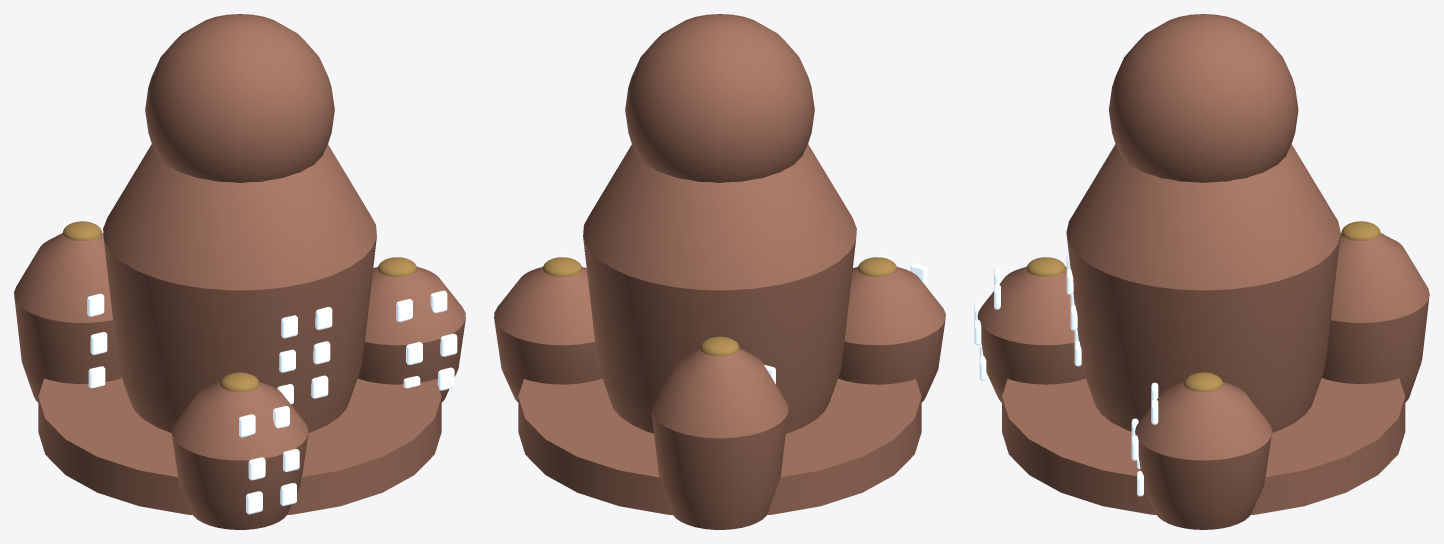
3 renders of one model, left to right at view 1: azimuth 30°, elevation 25°; view 2: azimuth 150°, elevation 25°; view 3: azimuth 270°, elevation 25°, orthographic.
Visible parts, largest first — view 1: Bulb shaped chamber, Foundation drum, Stacked rounded vessel, Bulb shaped chamber.003, Bulb shaped chamber.002, Bulb shaped chamber.001, Tower crown.003, Tower crown.001, Tower crown.002; view 2: Bulb shaped chamber, Foundation drum, Stacked rounded vessel, Bulb shaped chamber.002, Bulb shaped chamber.003, Bulb shaped chamber.001, Tower crown.002, Tower crown.003, Tower crown.001; view 3: Bulb shaped chamber, Foundation drum, Stacked rounded vessel, Bulb shaped chamber.001, Bulb shaped chamber.002, Bulb shaped chamber.003, Tower crown.003, Tower crown.002, Tower crown.001.
Part boxes in pixels (x1,y1,x2,y2): Bulb shaped chamber: (103, 144, 376, 432); Foundation drum: (38, 378, 441, 514); Stacked rounded vessel: (145, 14, 334, 182); Bulb shaped chamber.003: (171, 382, 308, 529); Bulb shaped chamber.002: (14, 233, 121, 402); Bulb shaped chamber.001: (357, 266, 465, 402); Tower crown.003: (220, 372, 259, 392); Tower crown.001: (378, 257, 416, 276); Tower crown.002: (63, 221, 101, 240); Bulb shaped chamber: (583, 144, 856, 433); Foundation drum: (518, 378, 921, 514); Stacked rounded vessel: (625, 14, 814, 182); Bulb shaped chamber.002: (651, 348, 788, 529); Bulb shaped chamber.003: (838, 266, 945, 402); Bulb shaped chamber.001: (494, 266, 602, 402); Tower crown.002: (700, 336, 739, 356); Tower crown.003: (858, 257, 896, 276); Tower crown.001: (543, 257, 581, 276); Bulb shaped chamber: (1066, 144, 1340, 432); Foundation drum: (1002, 378, 1405, 514); Stacked rounded vessel: (1109, 14, 1298, 182); Bulb shaped chamber.001: (1135, 382, 1272, 529); Bulb shaped chamber.002: (1321, 233, 1429, 402); Bulb shaped chamber.003: (977, 266, 1085, 402); Tower crown.003: (1026, 257, 1065, 276); Tower crown.002: (1341, 221, 1380, 240); Tower crown.001: (1184, 372, 1222, 392).
Size of the model in its own units: 2.29 by 2.29 by 2.3.
